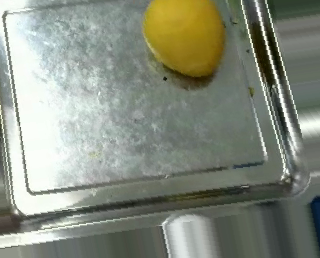Mango: (140, 0, 224, 77)
